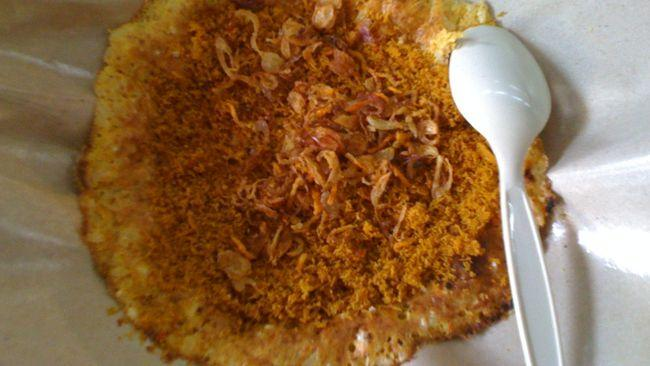kerak_telor: (81, 3, 557, 364)
